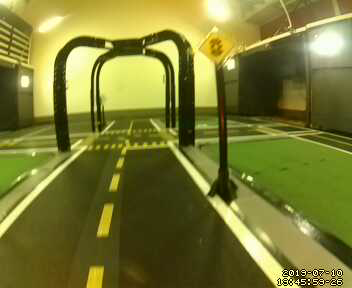Traffic light sign: (198, 27, 234, 62)
